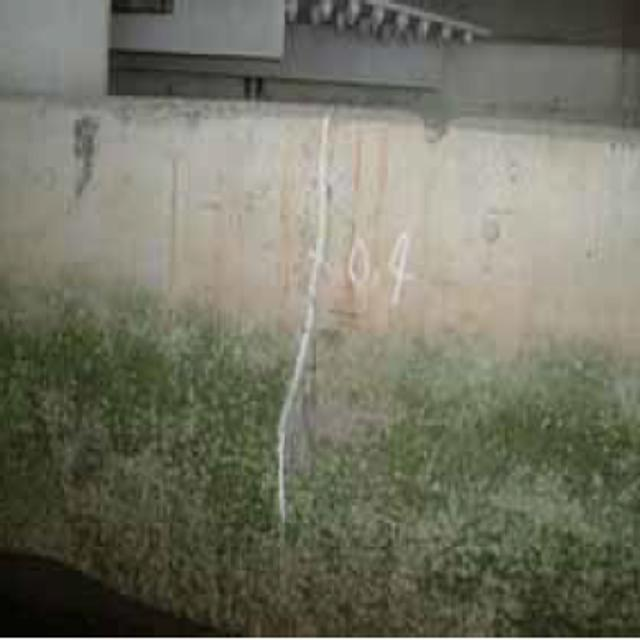crack: (286, 107, 340, 537)
